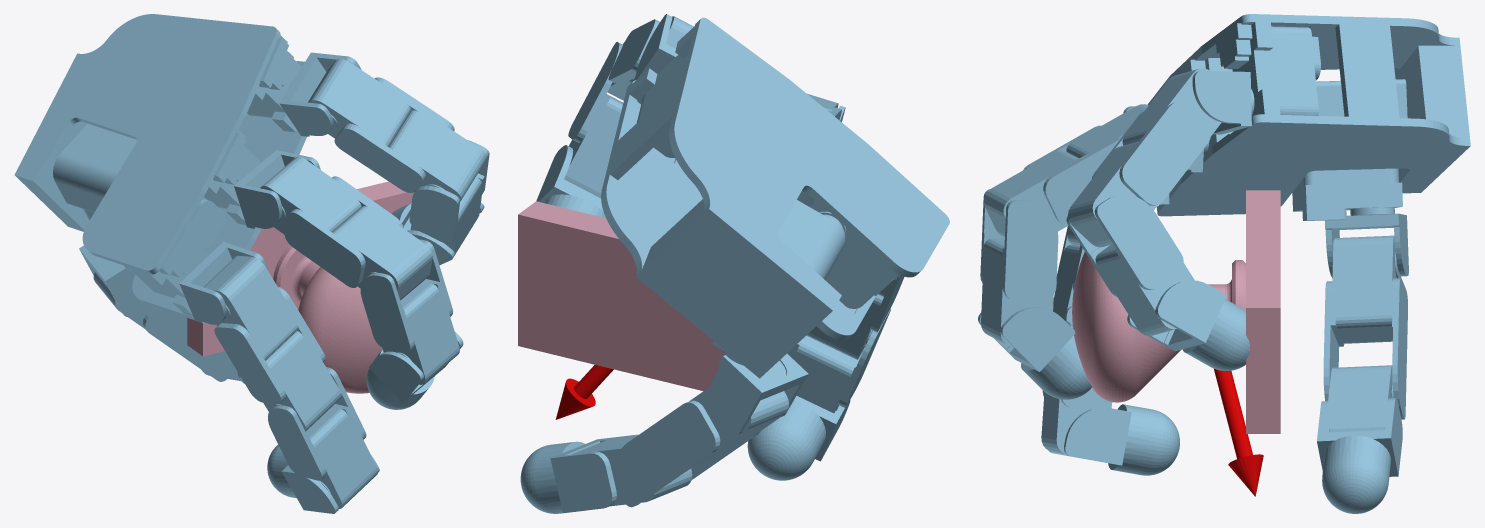
The picture shows the model from 3 angles, left to right: view 1: azimuth 30°, elevation 25°; view 2: azimuth 150°, elevation 25°; view 3: azimuth 270°, elevation 25°; orthographic projection. The views are drawn at different scales.
Visible parts, largest first — view 1: world, door_knob.stl; view 2: world, door_knob.stl; view 3: world, door_knob.stl.
Boxes of the visible parts, bbox=[...] form: world: bbox=[14, 14, 489, 513]; door_knob.stl: bbox=[187, 181, 414, 393]; world: bbox=[520, 14, 949, 513]; door_knob.stl: bbox=[518, 201, 787, 391]; world: bbox=[978, 14, 1470, 513]; door_knob.stl: bbox=[1072, 190, 1280, 433].
Size of the model in its own units: 0.1637 by 0.187 by 0.1772.
